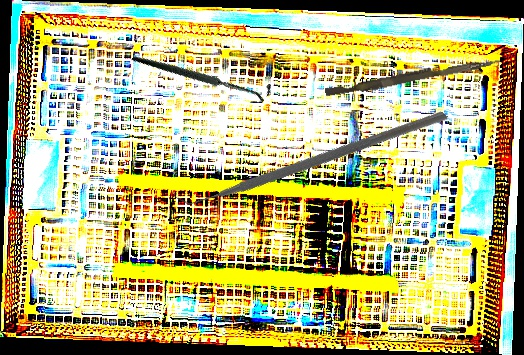Chopper: (166, 8, 450, 300)
Hook Surgical: (130, 2, 276, 146)
Pusher: (324, 51, 501, 102)
